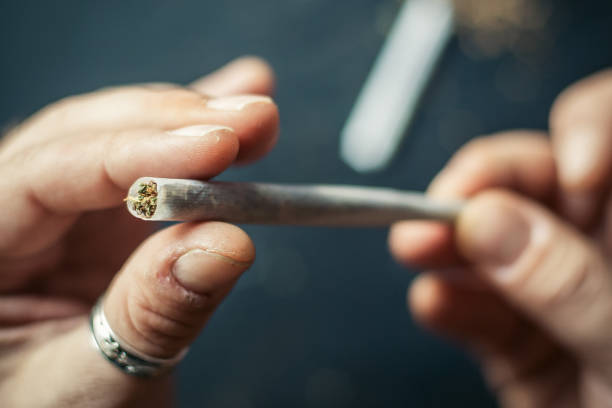cigarette: (125, 173, 468, 222)
